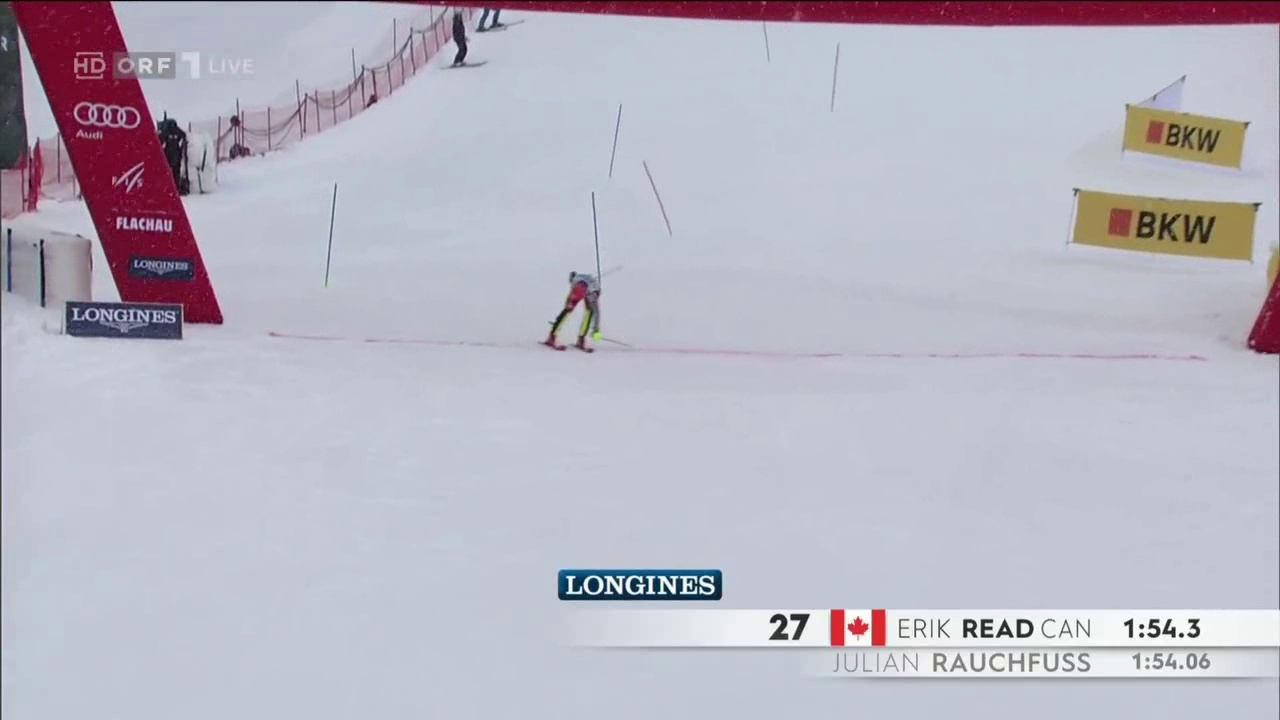audi: (69, 100, 148, 138)
longines: (563, 571, 726, 605)
